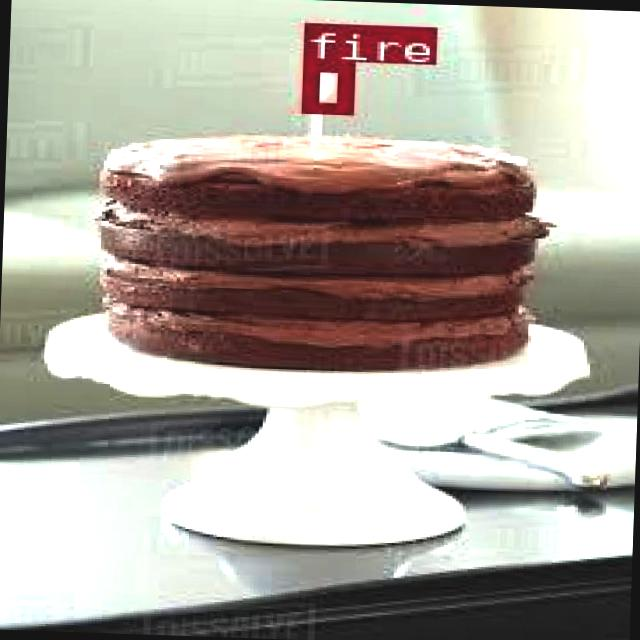fire: (298, 59, 350, 112)
